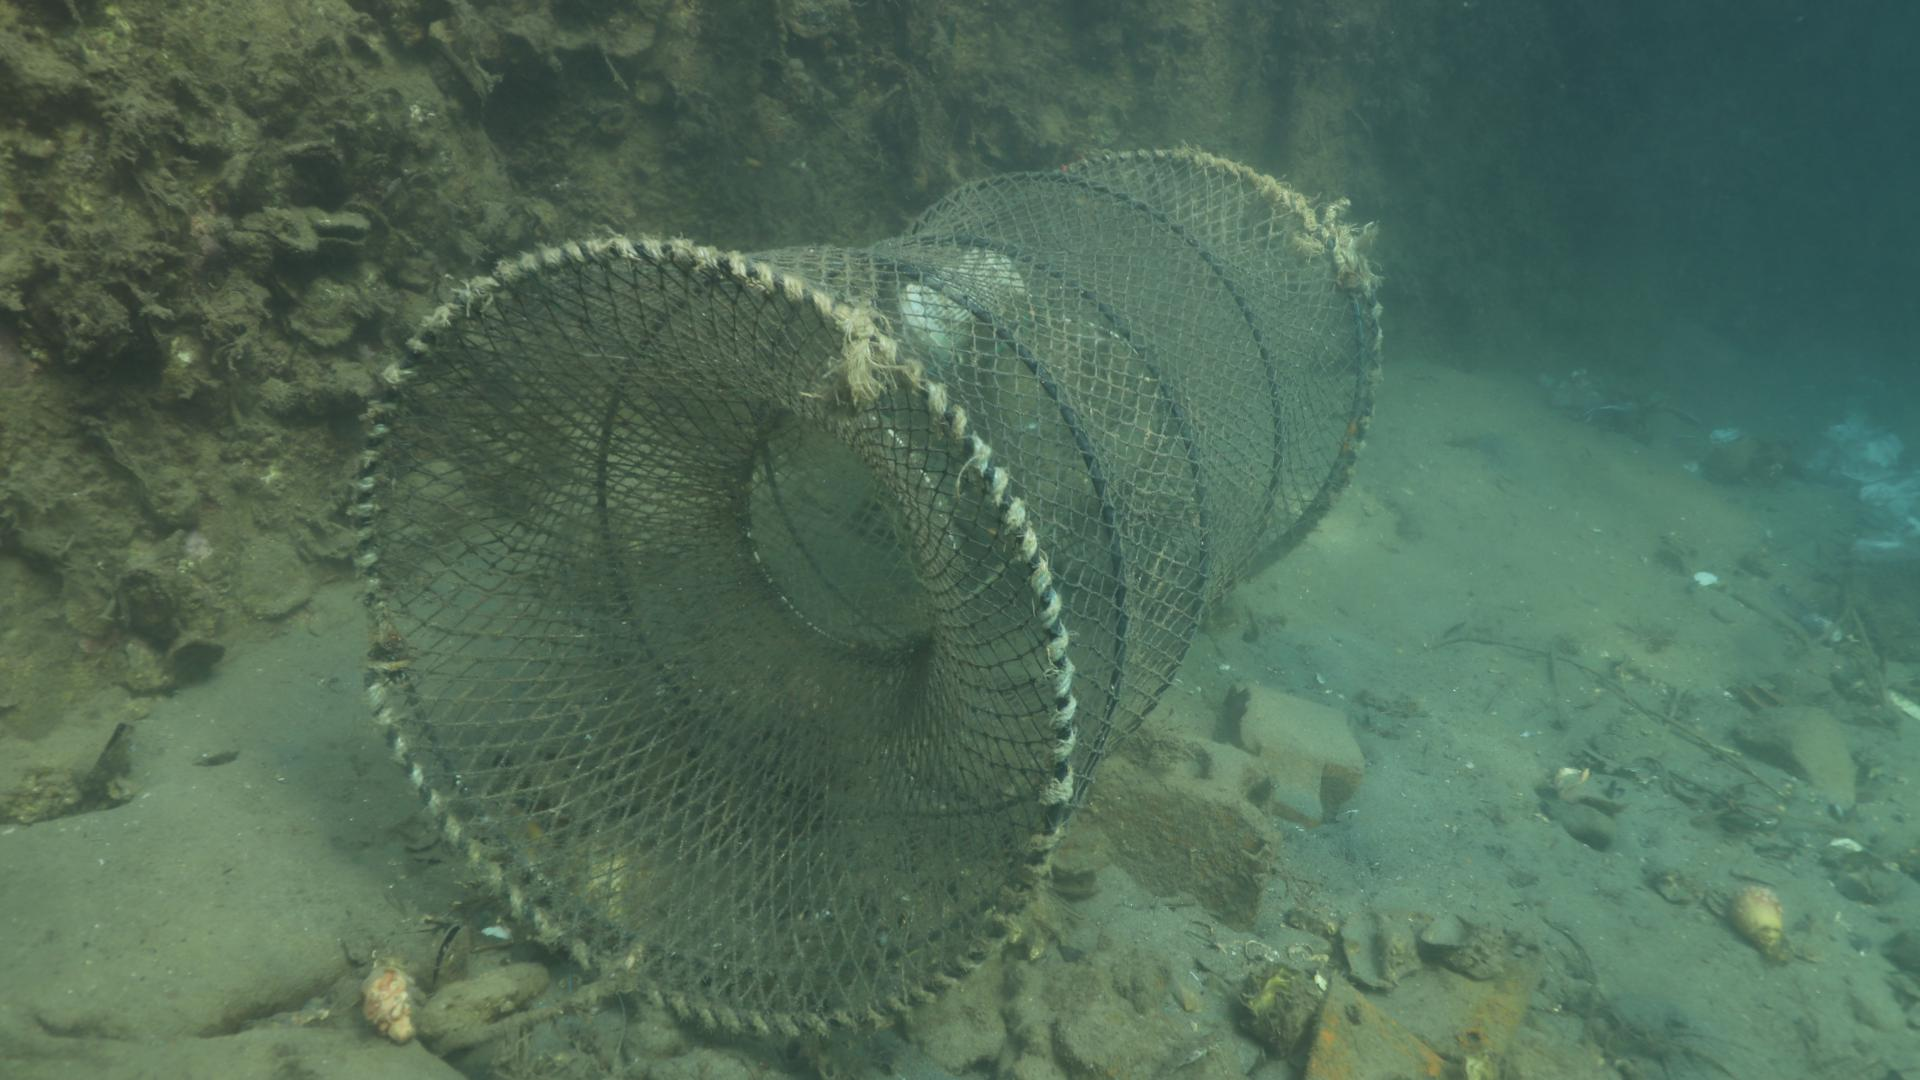spring fish trap: (345, 144, 1381, 1040)
